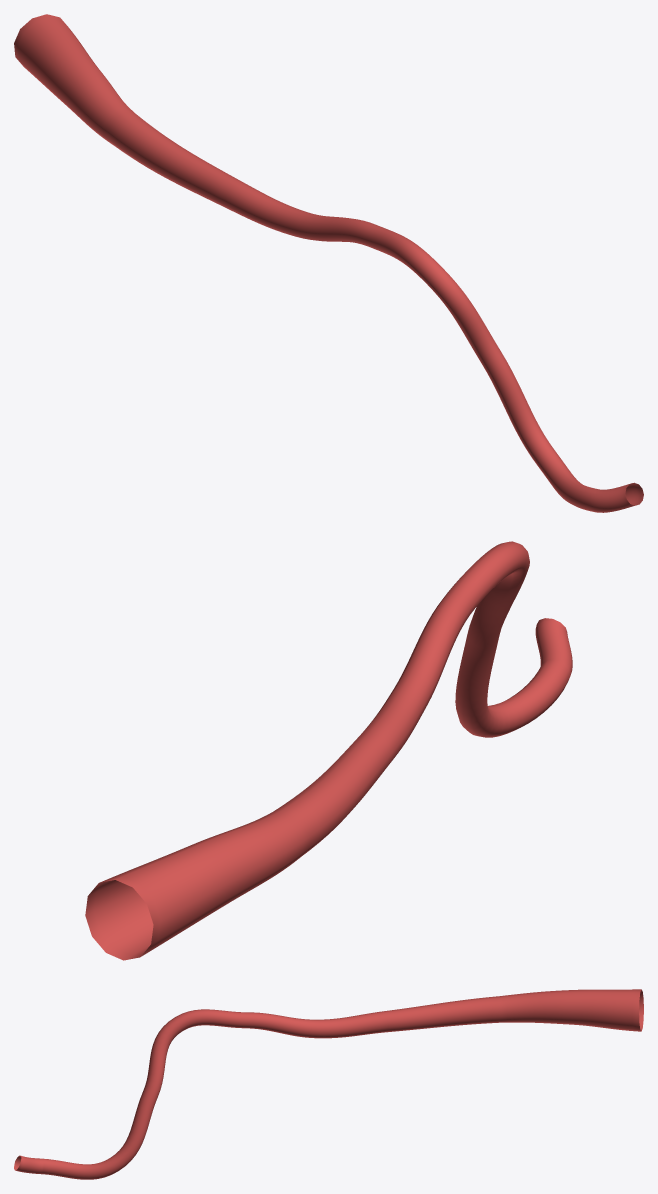
3 renders of one model, top to bottom at view 1: azimuth 30°, elevation 25°; view 2: azimuth 150°, elevation 25°; view 3: azimuth 270°, elevation 25°, orthographic. The views are drawn at different scales.
Visible parts, largest first — view 1: 右侧颈内动脉; view 2: 右侧颈内动脉; view 3: 右侧颈内动脉.
Part boxes in pixels (<box>): 右侧颈内动脉: <box>14,14,643,512</box>; 右侧颈内动脉: <box>85,541,572,960</box>; 右侧颈内动脉: <box>14,989,643,1179</box>.
Size of the model in its own units: 0.0409 by 0.045 by 0.1743.
